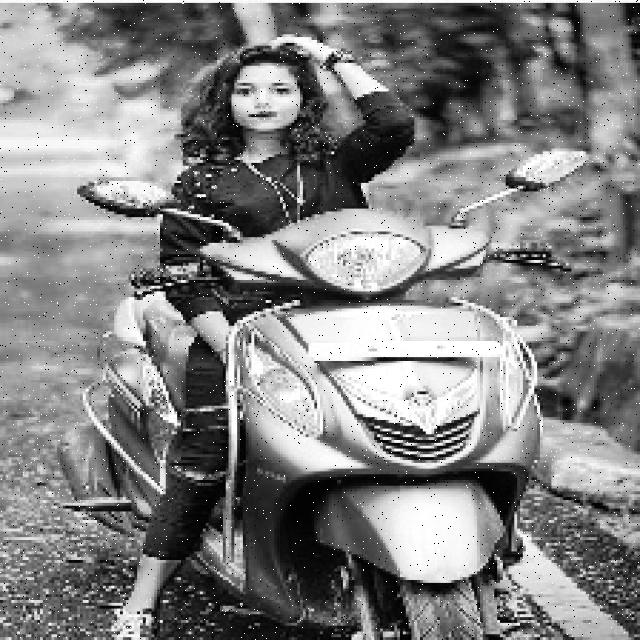Bike: (100, 222, 584, 630)
